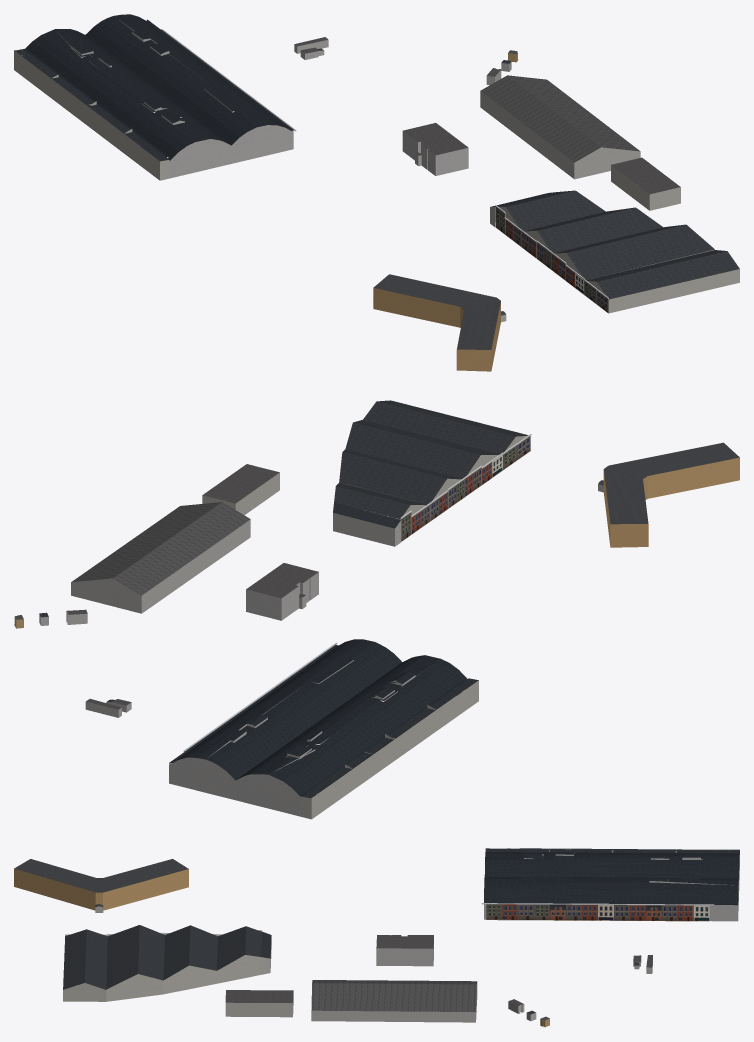
The picture shows the model from 3 angles, top to bottom: view 1: azimuth 30°, elevation 25°; view 2: azimuth 150°, elevation 25°; view 3: azimuth 270°, elevation 25°; orthographic projection. The views are drawn at different scales.
Visible parts, largest first — view 1: bldg_6004321694_roof, bldg_6004321715_roof, bldg_6004321731_roof, bldg_6004321694, bldg_6004321695_roof, bldg_6000324993, bldg_6004321695, bldg_6004321731, bldg_6004321715, bldg_6004321717, bldg_6000324993_roof, bldg_6004321735_roof (+2 smaller); view 2: bldg_6004321694_roof, bldg_6004321715_roof, bldg_6004321731_roof, bldg_6004321694, bldg_6004321695_roof, bldg_6000324993, bldg_6004321731, bldg_6004321695, bldg_6004321717, bldg_6000324993_roof, bldg_6004321735_roof, bldg_6000324998 (+3 smaller); view 3: bldg_6004321694_roof, bldg_6004321715_roof, bldg_6004321731_roof, bldg_6004321694_facade1, bldg_6004321715, bldg_6004321695, bldg_6004321695_roof, bldg_6004321731, bldg_6000324993_roof, bldg_6004321717, bldg_6004321735, bldg_6004321694 (+2 smaller).
Part boxes in pixels (box(x1,y1,x2,y2)): bldg_6004321694_roof: box(23, 14, 293, 160); bldg_6004321715_roof: box(498, 190, 739, 299); bldg_6004321731_roof: box(480, 75, 639, 162); bldg_6004321694: box(57, 18, 293, 178); bldg_6004321695_roof: box(373, 274, 500, 349); bldg_6000324993: box(14, 50, 169, 180); bldg_6004321695: box(373, 288, 500, 371); bldg_6004321731: box(480, 91, 640, 179); bldg_6004321715: box(498, 206, 739, 313); bldg_6004321717: box(402, 131, 468, 175); bldg_6000324993_roof: box(14, 49, 168, 161); bldg_6004321735_roof: box(611, 157, 680, 194); bldg_6004321694_roof: box(169, 639, 467, 796); bldg_6004321715_roof: box(334, 400, 528, 519); bldg_6004321731_roof: box(71, 502, 250, 595); bldg_6004321694: box(169, 660, 417, 816); bldg_6004321695_roof: box(603, 442, 739, 524); bldg_6000324993: box(302, 680, 478, 819); bldg_6004321731: box(71, 519, 250, 613); bldg_6004321695: box(603, 457, 739, 547); bldg_6004321717: box(246, 572, 318, 620); bldg_6000324993_roof: box(302, 678, 478, 798); bldg_6004321735_roof: box(202, 464, 279, 503); bldg_6000324998: box(333, 513, 401, 546); bldg_6004321694_roof: box(484, 852, 739, 905); bldg_6004321715_roof: box(63, 925, 261, 989); bldg_6004321731_roof: box(311, 980, 477, 1011); bldg_6004321694_facade1: box(481, 903, 714, 921); bldg_6004321715: box(63, 955, 260, 1001); bldg_6004321695: box(14, 868, 188, 910); bldg_6004321695_roof: box(14, 859, 188, 892); bldg_6004321731: box(311, 980, 477, 1022); bldg_6000324993_roof: box(485, 848, 739, 853); bldg_6004321717: box(376, 943, 433, 966); bldg_6004321735: box(225, 991, 293, 1017); bldg_6004321694: box(484, 853, 739, 921).
Bounding box in the file's own units: 154 × 12.48 × 290.
17 materials, 13 textured.
